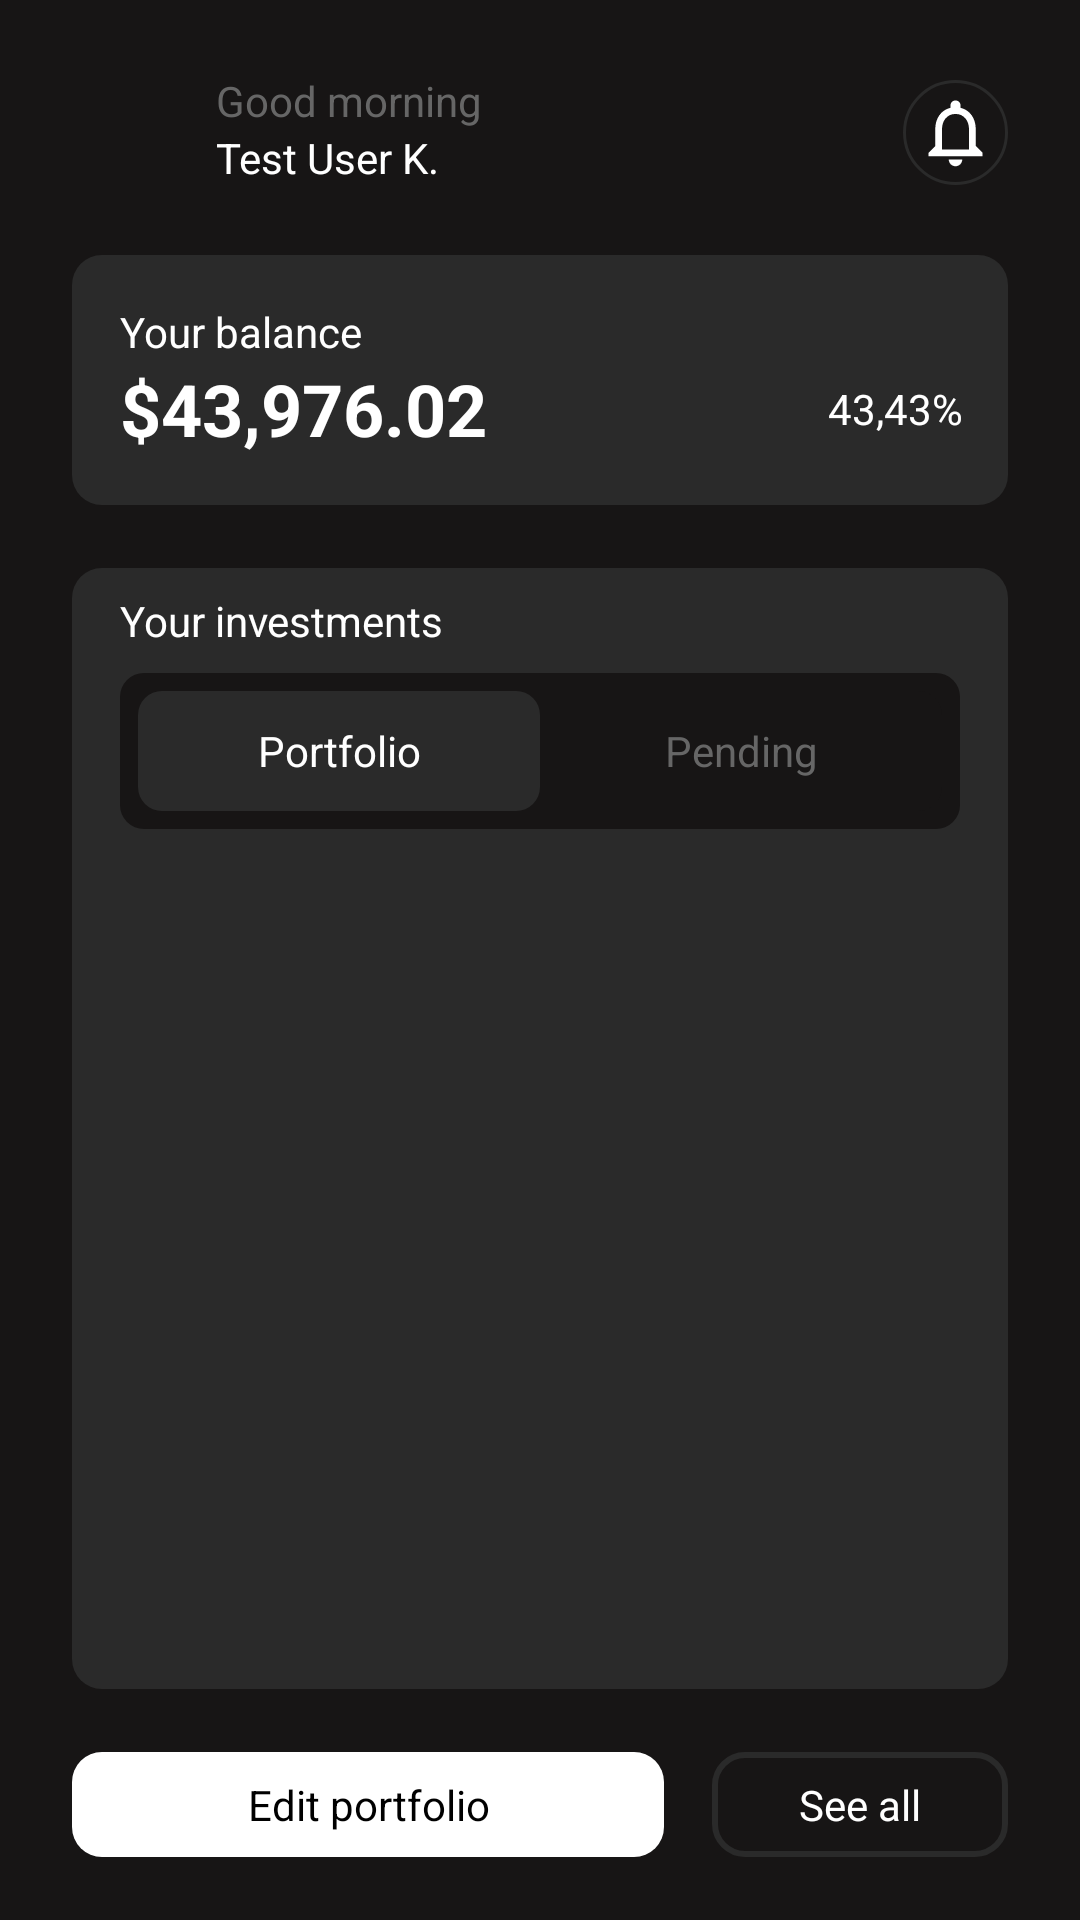

Icon click points for this 1080×1920 phone screenshot, format point (x, y):
notifications: point (955, 133)
